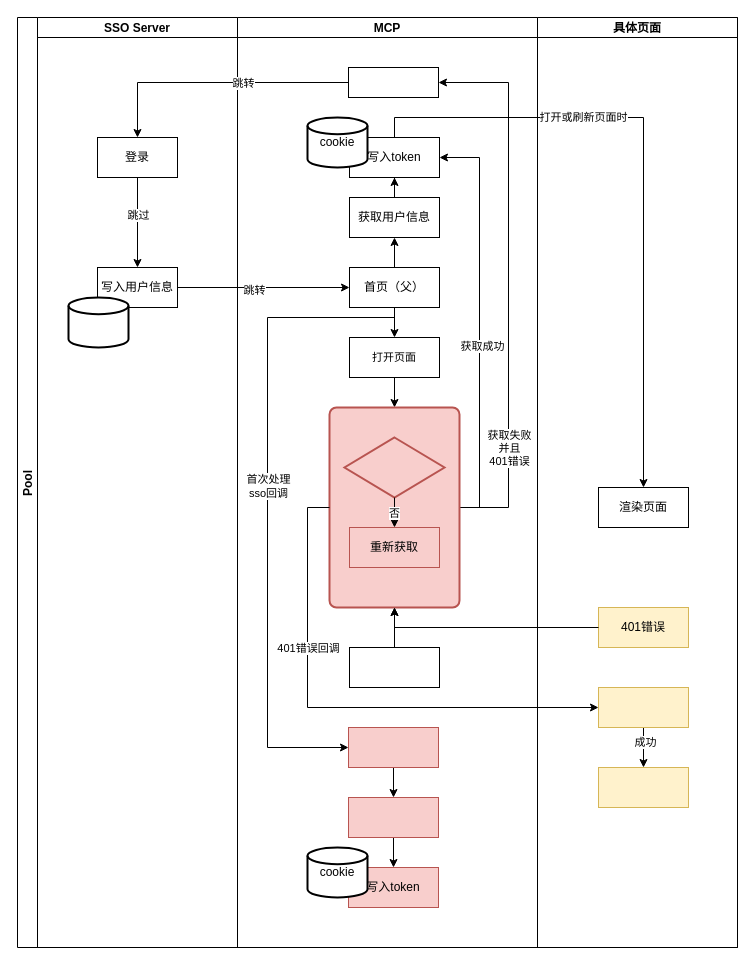
This 755x965 diagram has some shape labels left out. Each missing label, with the centre of its shape:
"cookie中 存在token" belongs at (394,467).
"store" belongs at (98,322).
"Token刷新" belongs at (393,817).
"Token失效监听" belongs at (393,747).
"刷新页面" belongs at (394,667).
"登录页" belongs at (393,82).
"监听token处理结果消息" belongs at (643,707).
"重试请求" belongs at (643,787).
